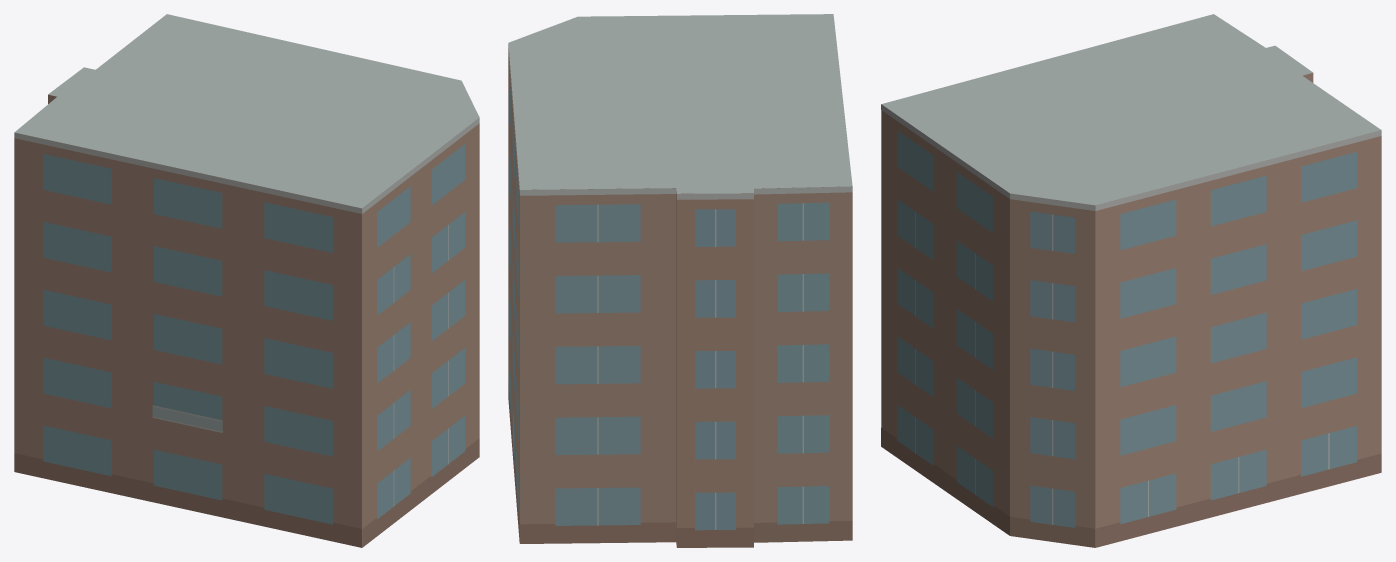
Rendered from survey-upis-32720513.glb.
The picture shows the model from 3 angles, left to right: view 1: azimuth 30°, elevation 25°; view 2: azimuth 150°, elevation 25°; view 3: azimuth 270°, elevation 25°; orthographic projection. The views are drawn at different scales.
Visible parts, largest first — view 1: survey-upis-32720513.tmp; view 2: survey-upis-32720513.tmp; view 3: survey-upis-32720513.tmp.
Part boxes in pixels (left/top/right/bottom): survey-upis-32720513.tmp: left=14, top=14, right=479, bottom=547; survey-upis-32720513.tmp: left=508, top=14, right=852, bottom=547; survey-upis-32720513.tmp: left=881, top=14, right=1381, bottom=547.
Bounding box in the file's own units: 17.56 × 14.65 × 19.41.
